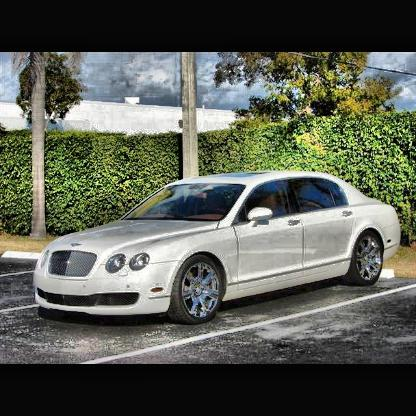Bentley Continental Flying Spur Sedan 2007: (33, 169, 403, 329)
